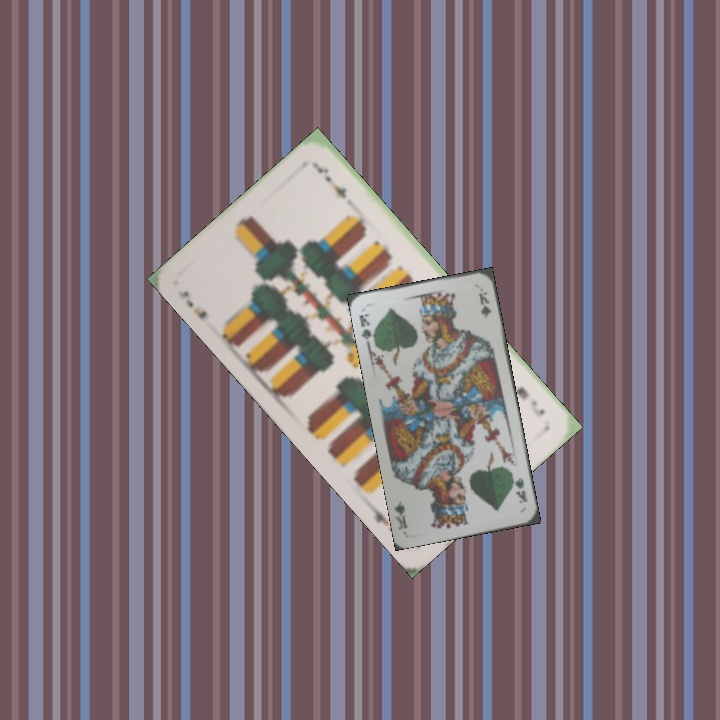E7: (511, 382, 548, 419), (173, 286, 210, 322)
GK: (355, 309, 378, 347), (508, 470, 530, 506)
